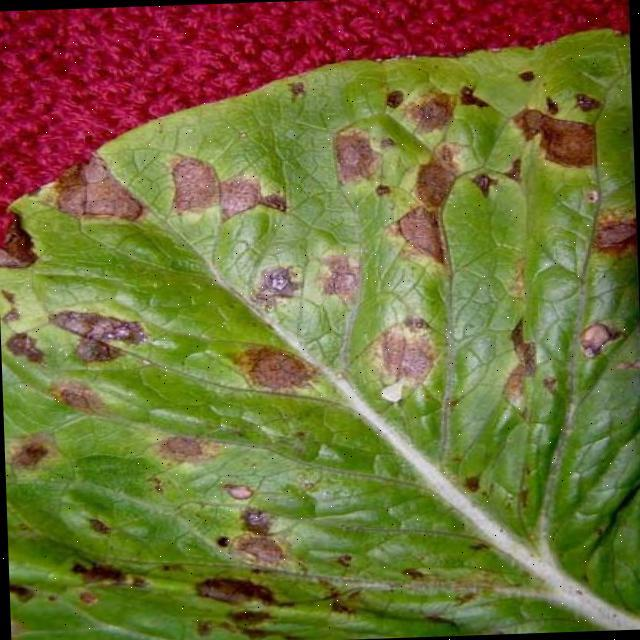Septoria_Blight_on_lettuce: (30, 97, 624, 640)
